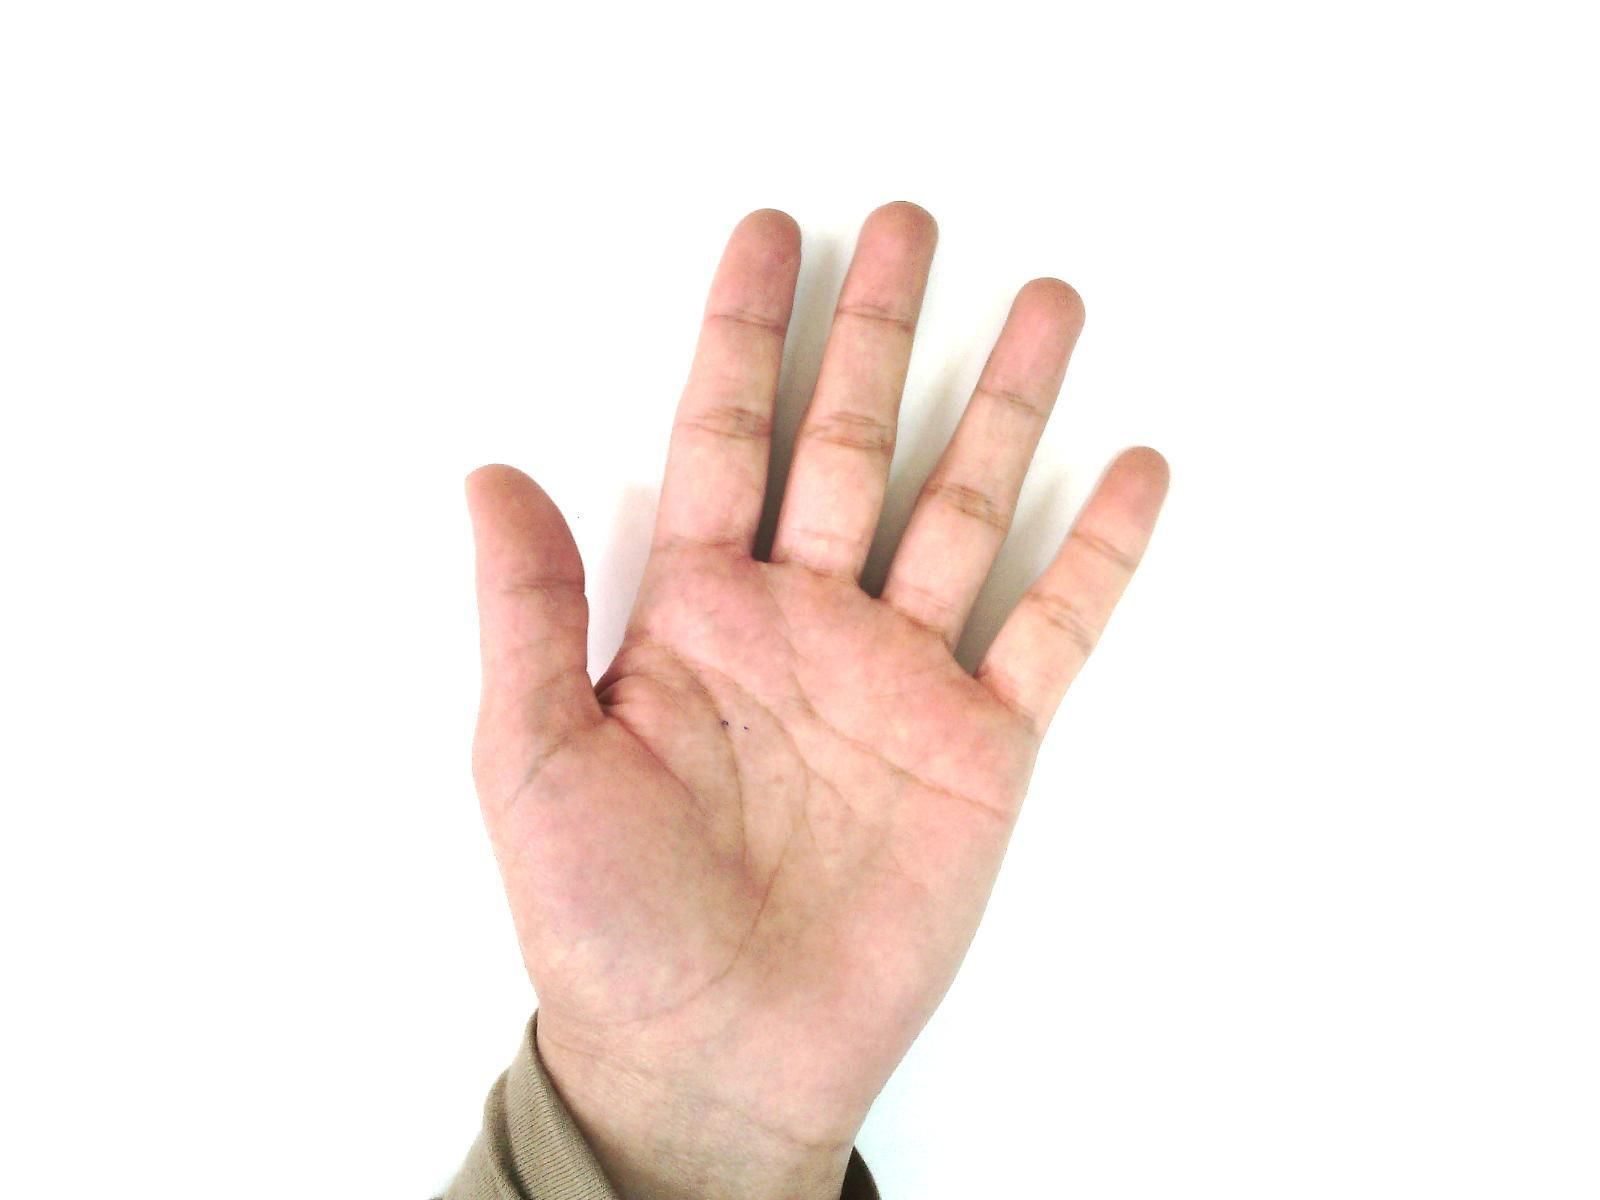hand: (443, 180, 1170, 1080)
